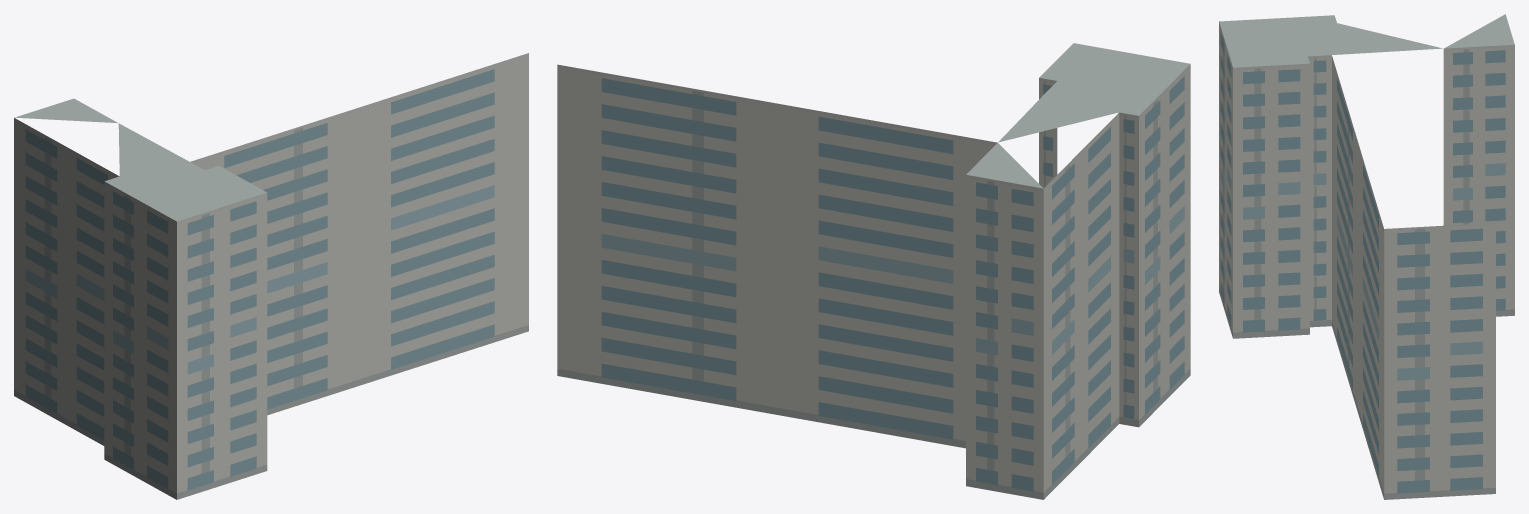
The model's file is residential-2a09f566-e128-4084-b7f2-e02708442f21.glb.
3 renders of one model, left to right at view 1: azimuth 30°, elevation 25°; view 2: azimuth 150°, elevation 25°; view 3: azimuth 270°, elevation 25°, orthographic. The views are drawn at different scales.
Parts seen in each view (by area): view 1: residential-2a09f566-e128-4084-b7f2-e02708442f21.tmp; view 2: residential-2a09f566-e128-4084-b7f2-e02708442f21.tmp; view 3: residential-2a09f566-e128-4084-b7f2-e02708442f21.tmp.
Part boxes in pixels (x1,y1,x2,y2): residential-2a09f566-e128-4084-b7f2-e02708442f21.tmp: (14, 53, 528, 499); residential-2a09f566-e128-4084-b7f2-e02708442f21.tmp: (557, 43, 1190, 499); residential-2a09f566-e128-4084-b7f2-e02708442f21.tmp: (1219, 14, 1514, 499).
Size of the model in its own units: 56.13 by 33 by 32.64.
